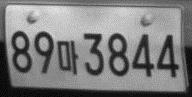3: (83, 32, 104, 75)
4: (155, 34, 179, 80), (130, 33, 154, 76)
8: (107, 32, 129, 76), (10, 30, 33, 72)
9: (33, 31, 55, 73)
마: (56, 39, 79, 75)
